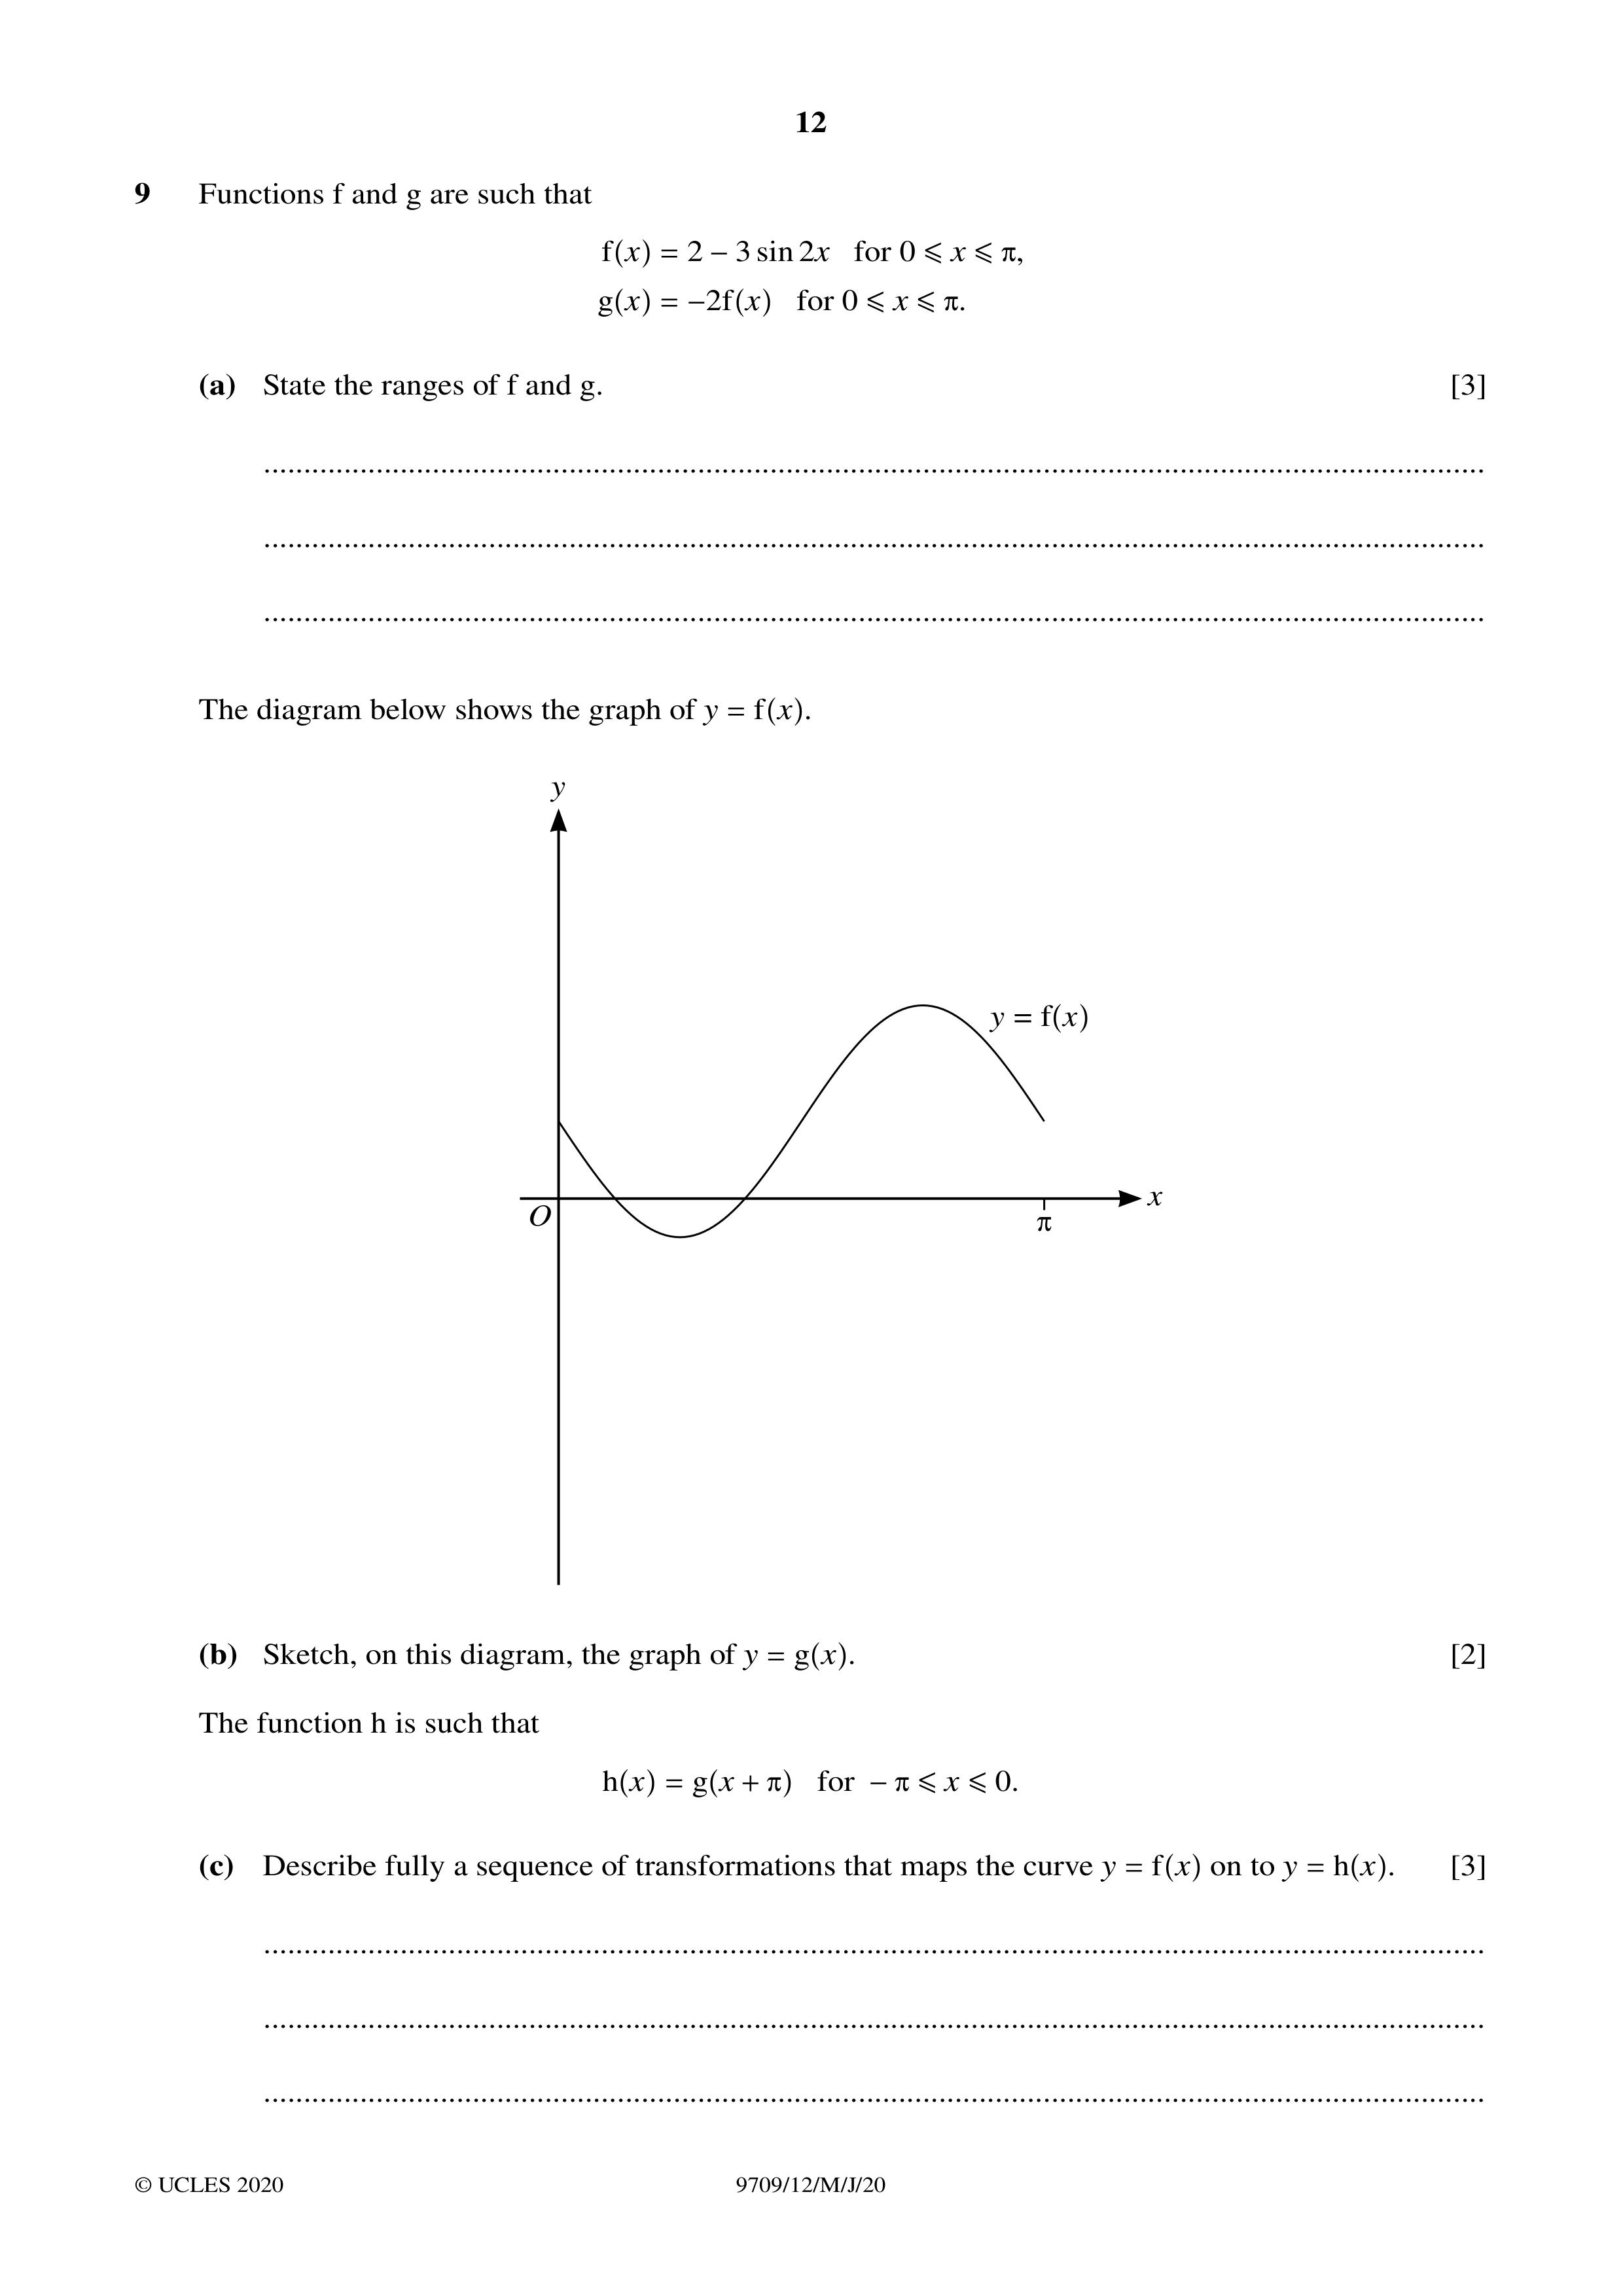question: (123, 662, 1546, 1917), (97, 153, 1512, 442)
